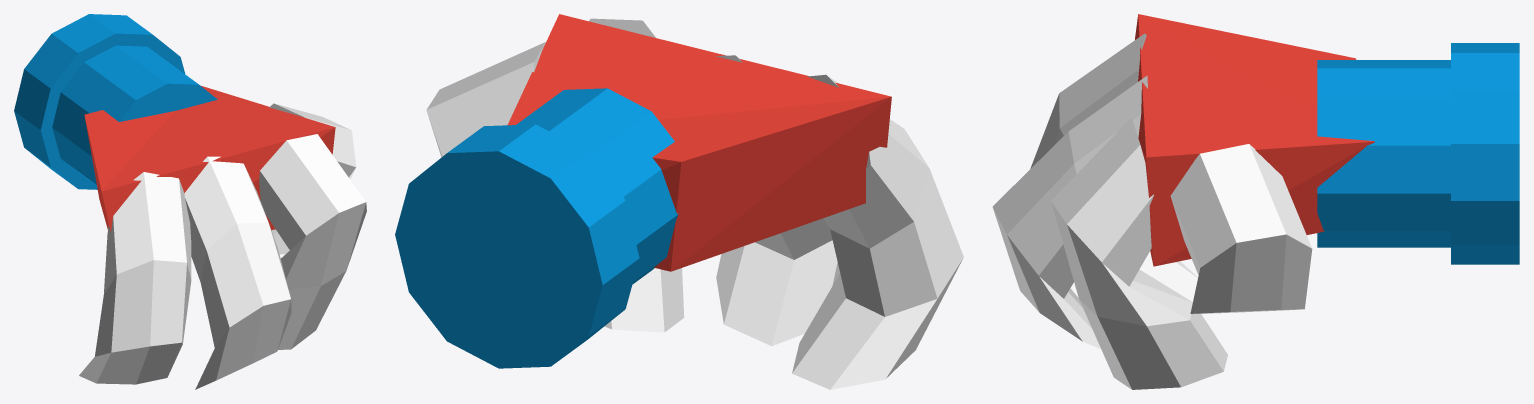
The picture shows the model from 3 angles, left to right: view 1: azimuth 30°, elevation 25°; view 2: azimuth 150°, elevation 25°; view 3: azimuth 270°, elevation 25°; orthographic projection. The views are drawn at different scales.
Visible parts, largest first — view 1: group_960636856, group_872484058, mesh_572324821, group_1534505587, mesh_117267623, mesh_227893038, group_1627297774; view 2: mesh_572324821, mesh_227893038, group_960636856, mesh_117267623, group_872484058, group_1627297774, group_1534505587; view 3: mesh_572324821, mesh_117267623, group_1534505587, group_1627297774, mesh_227893038, group_872484058, group_960636856.
Part boxes in pixels (box(x1,y1,x2,y2)): group_960636856: box(79, 172, 191, 384); group_872484058: box(184, 156, 291, 389); mesh_572324821: box(84, 86, 335, 232); group_1534505587: box(259, 134, 366, 349); mesh_117267623: box(52, 45, 217, 186); mesh_227893038: box(14, 14, 185, 189); group_1627297774: box(269, 103, 356, 254); mesh_572324821: box(507, 14, 891, 271); mesh_227893038: box(395, 124, 639, 368); group_960636856: box(792, 74, 963, 389); mesh_117267623: box(516, 88, 678, 284); group_872484058: box(715, 55, 839, 346); group_1627297774: box(426, 42, 545, 157); group_1534505587: box(589, 18, 684, 332); mesh_572324821: box(1135, 14, 1374, 266); mesh_117267623: box(1317, 60, 1450, 247); group_1534505587: box(1051, 117, 1227, 389); group_1627297774: box(1170, 144, 1312, 314); mesh_227893038: box(1451, 43, 1519, 264); group_872484058: box(992, 75, 1147, 348); group_960636856: box(1030, 33, 1197, 299).
Size of the model in its own units: 26.83 by 20.36 by 30.76.
